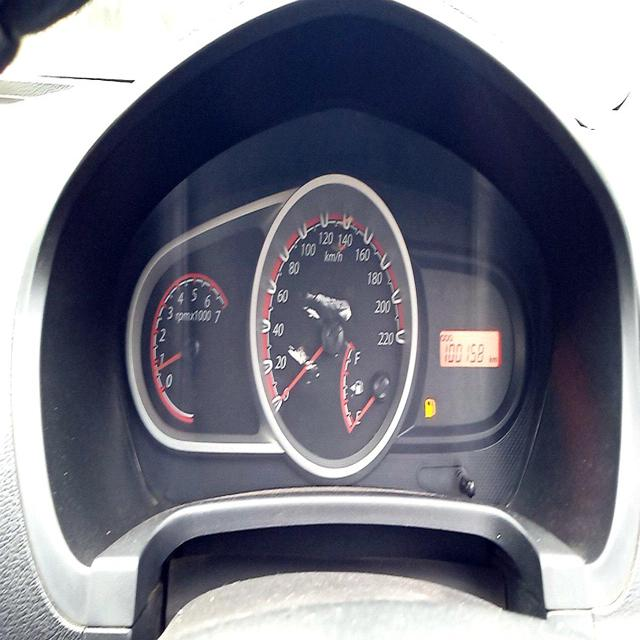odometer: (442, 342, 484, 364)
